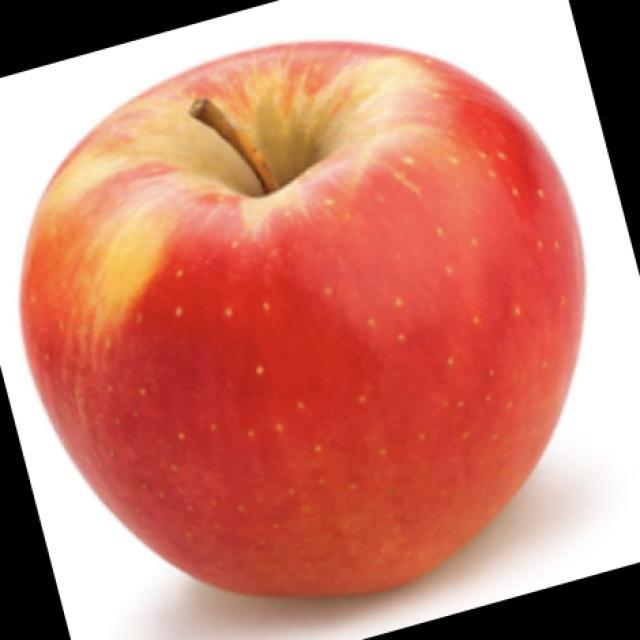Fresh Apple: (20, 42, 562, 593)
